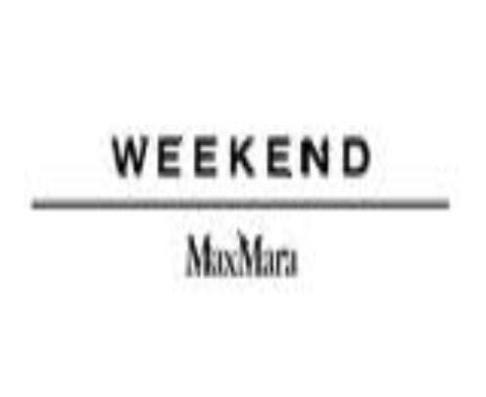MAX-MARA: (184, 230, 295, 279)
